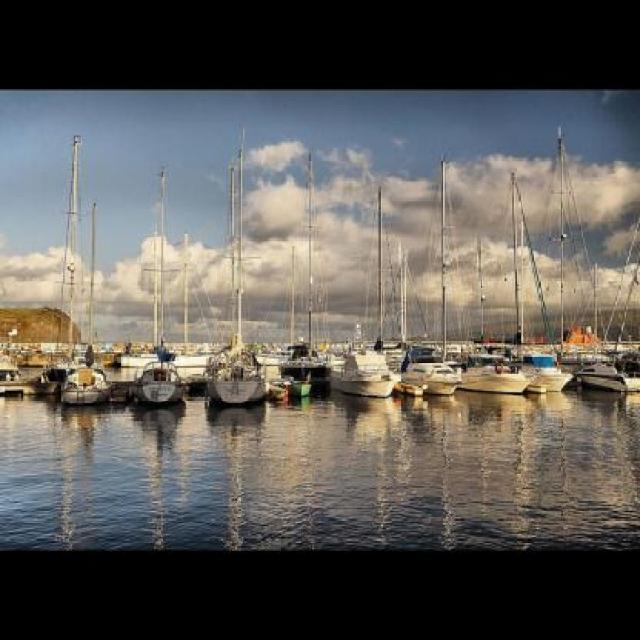ship: (205, 140, 269, 405), (54, 129, 109, 405), (134, 166, 188, 405), (280, 146, 331, 388), (332, 315, 397, 399), (460, 330, 538, 395), (570, 339, 638, 393), (400, 343, 462, 400), (518, 347, 570, 393)
